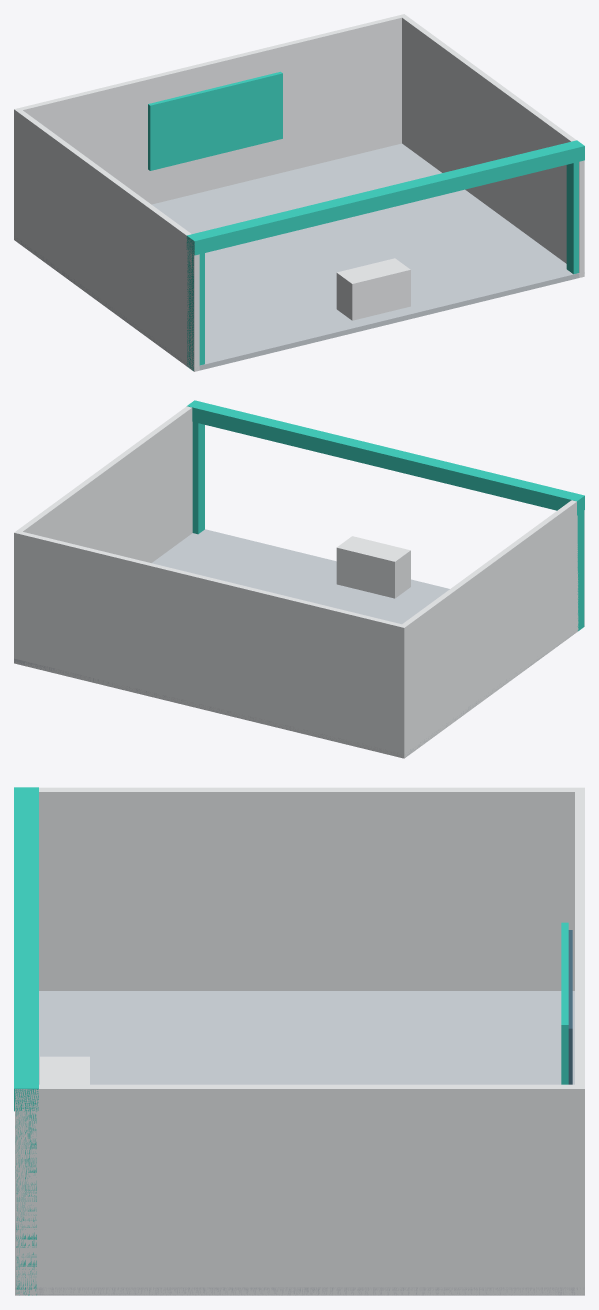
The picture shows the model from 3 angles, top to bottom: view 1: azimuth 30°, elevation 25°; view 2: azimuth 150°, elevation 25°; view 3: azimuth 270°, elevation 25°; orthographic projection. The views are drawn at different scales.
Parts seen in each view (by area): view 1: Exhibition Booth Concept; view 2: Exhibition Booth Concept; view 3: Exhibition Booth Concept.
Boxes of the visible parts, box(x1,y1,x2,y2) form: Exhibition Booth Concept: box(14, 14, 584, 371); Exhibition Booth Concept: box(14, 400, 584, 758); Exhibition Booth Concept: box(14, 787, 584, 1295).
Size of the model in its own units: 10 by 3.2 by 8.01.
